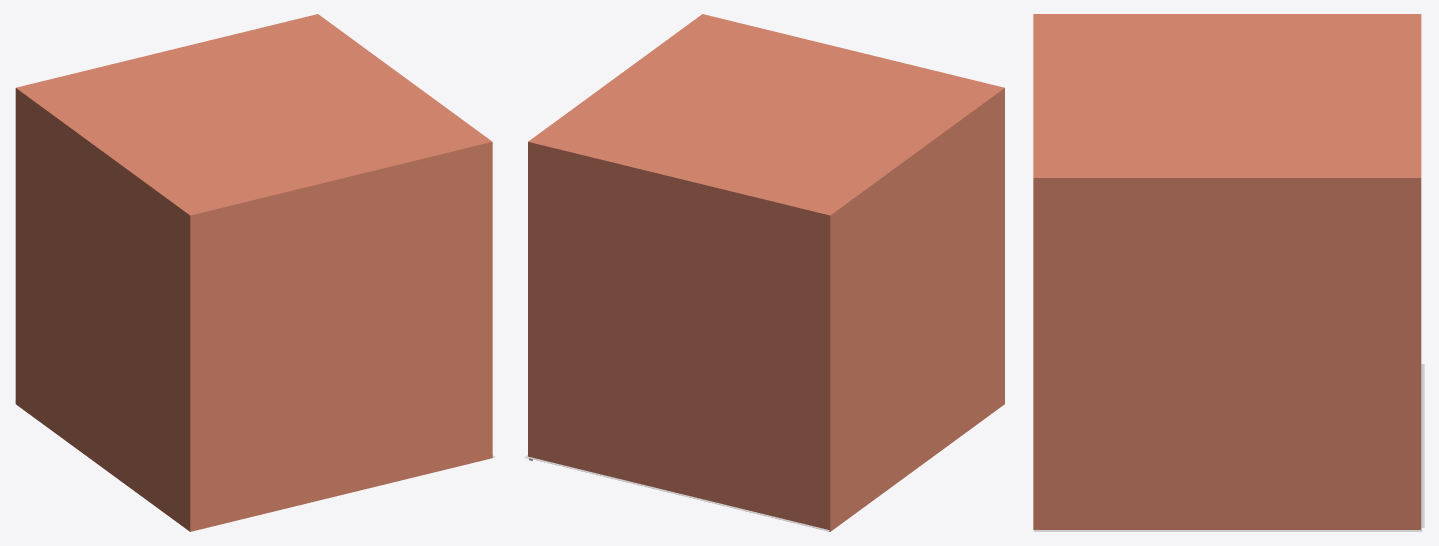
Rendered from 田中ゼミ(1).fbx.
3 views of the same model, side by side, from view 1: azimuth 30°, elevation 25°; view 2: azimuth 150°, elevation 25°; view 3: azimuth 270°, elevation 25° (orthographic). The views are drawn at different scales.
Visible parts, largest first — view 1: Cube; view 2: Cube, 平面.002; view 3: Cube, 平面, 平面.002.
Boxes of the visible parts, <box> form: Cube: <box>15,14,492,531</box>; Cube: <box>528,14,1004,531</box>; 平面.002: <box>527,456,829,531</box>; Cube: <box>1033,14,1421,529</box>; 平面: <box>1034,529,1422,531</box>; 平面.002: <box>1421,364,1424,527</box>.
Bounding box in the file's own units: 1012 × 1006 × 1009.
